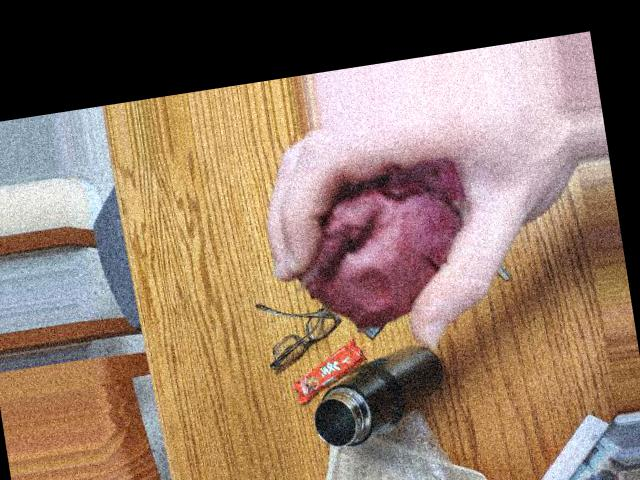onion: (312, 169, 451, 303)
